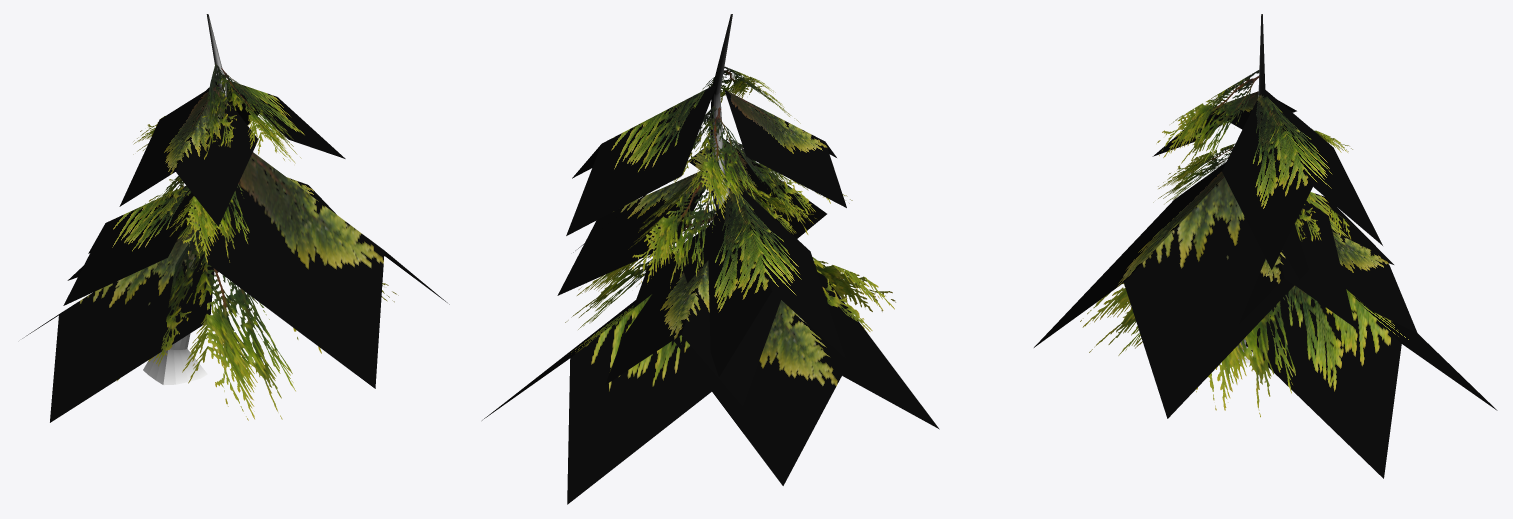
File: Cyprus2.fbx
3 views of the same model, side by side, from view 1: azimuth 30°, elevation 25°; view 2: azimuth 150°, elevation 25°; view 3: azimuth 270°, elevation 25° (orthographic). The views are drawn at different scales.
Parts seen in each view (by area): view 1: Tree2; view 2: Tree2; view 3: Tree2.
Part boxes in pixels (x1,y1,x2,y2): Tree2: (22,14,449,422); Tree2: (482,14,939,504); Tree2: (1034,14,1497,478).
Size of the model in its own units: 2368 by 2324 by 2499.
